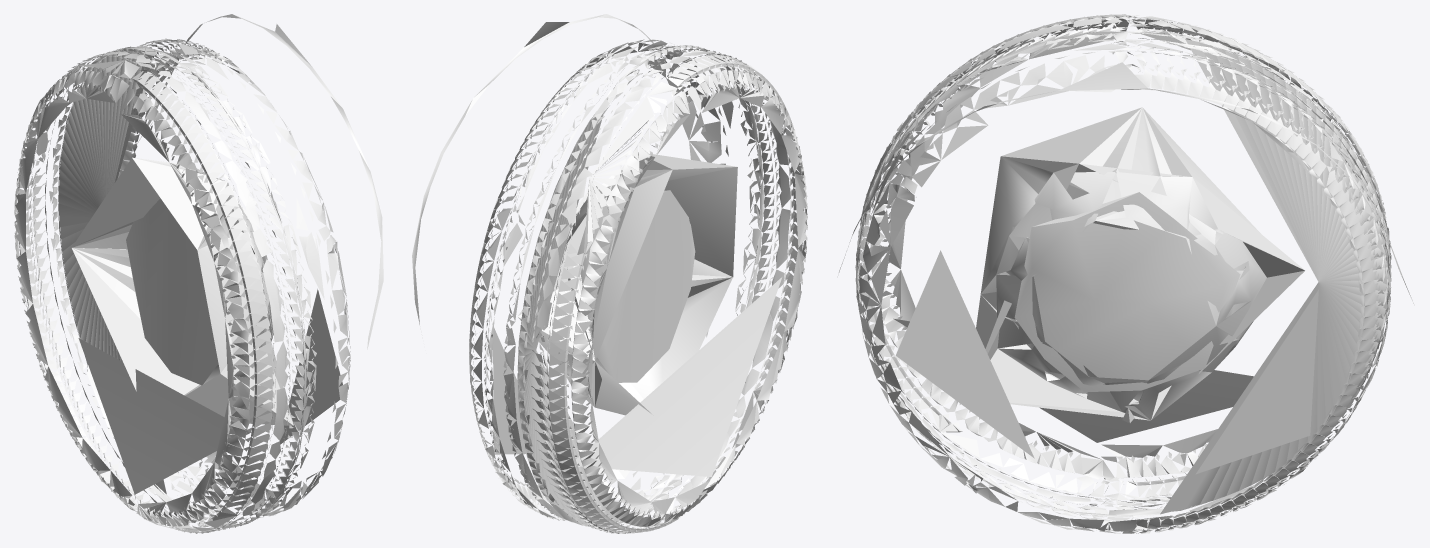
3 renders of one model, left to right at view 1: azimuth 30°, elevation 25°; view 2: azimuth 150°, elevation 25°; view 3: azimuth 270°, elevation 25°, orthographic. The views are drawn at different scales.
Size of the model in its own units: 0.2428 by 0.626 by 0.652.
1 material, 1 textured.
